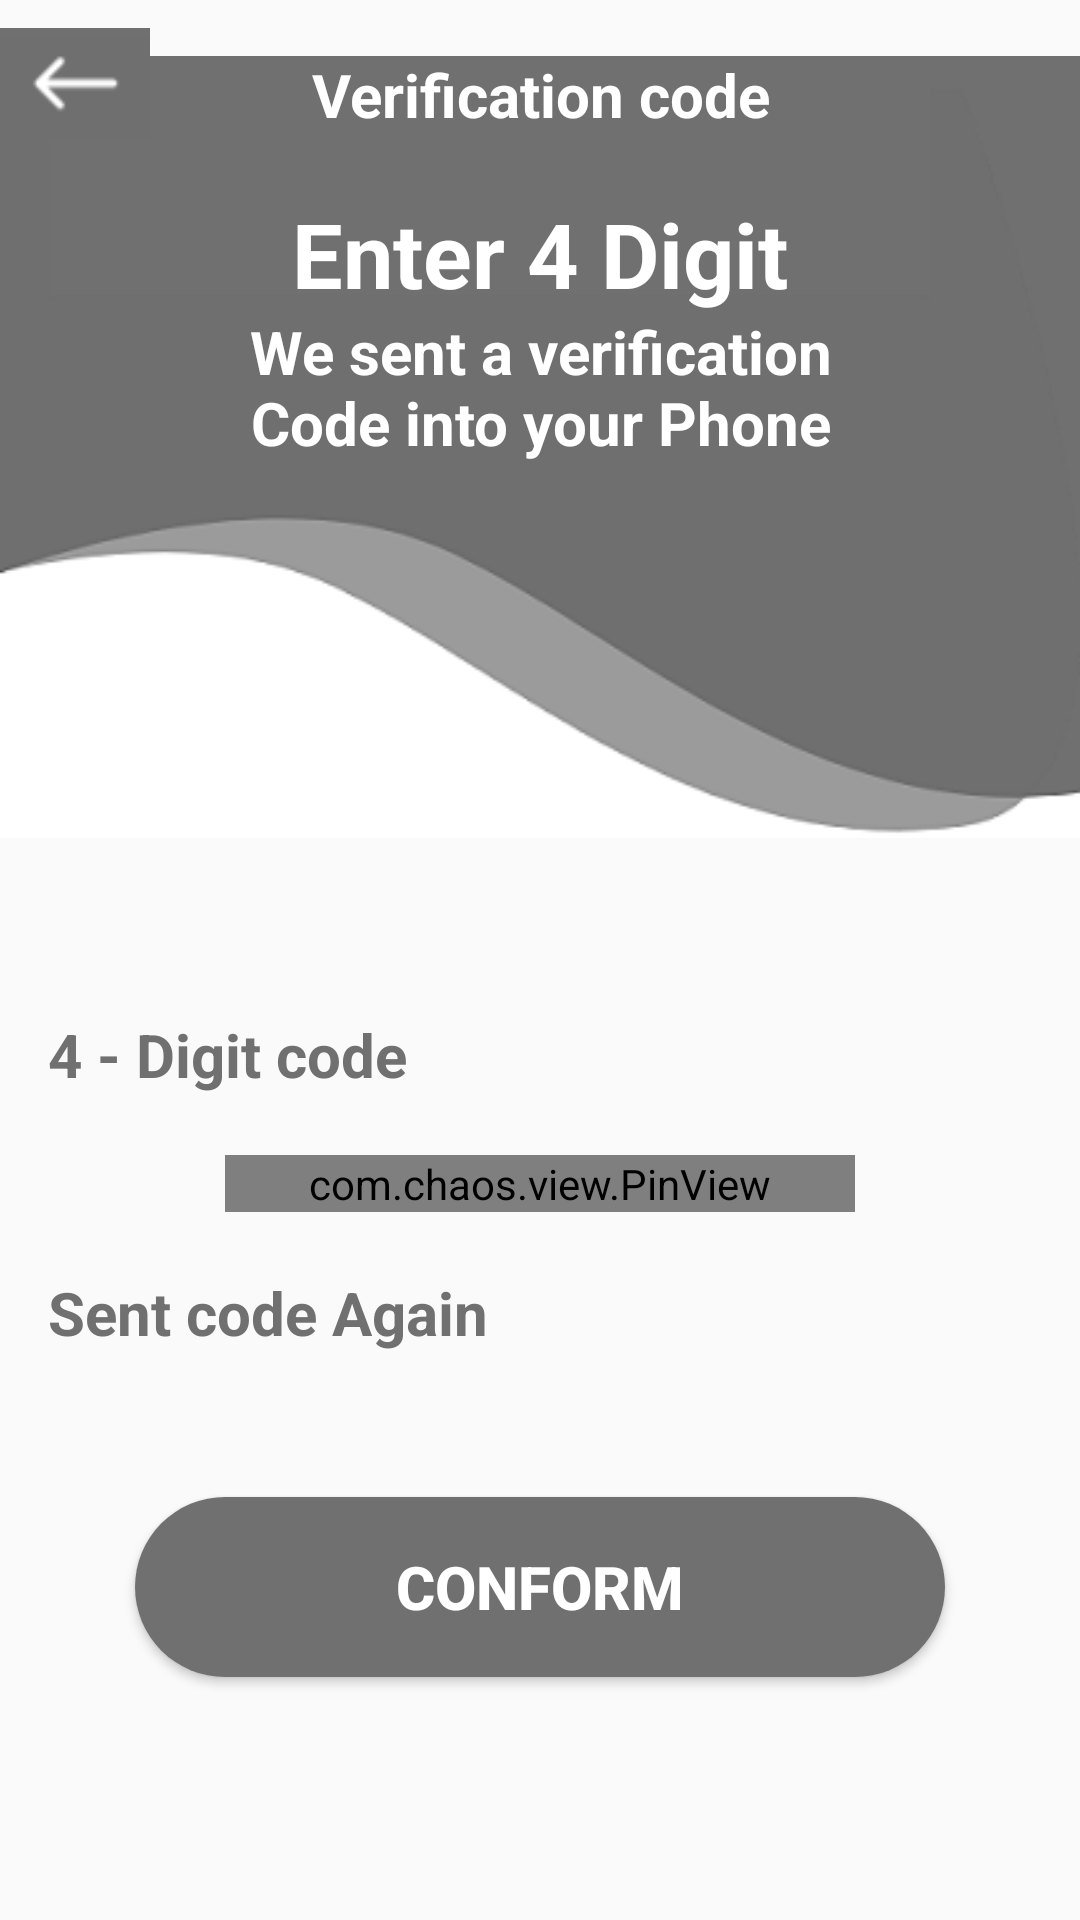

Named icons in this screenshot (1080 × 1920) and their centers, [x,y]:
back: [75,84]
